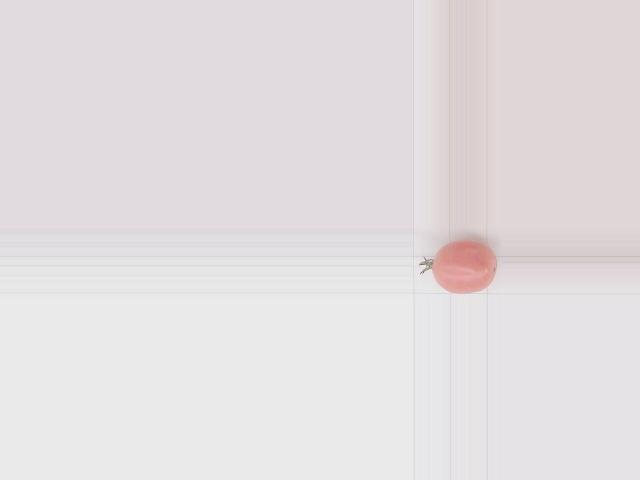tomato: (432, 240, 497, 294)
